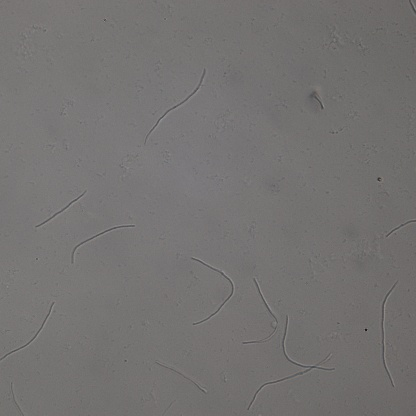Sensitive: (248, 316, 334, 410), (145, 67, 206, 144), (1, 302, 55, 365), (189, 256, 235, 328), (242, 275, 279, 347), (375, 279, 398, 390), (71, 224, 135, 262), (35, 190, 87, 227), (154, 363, 205, 392)
